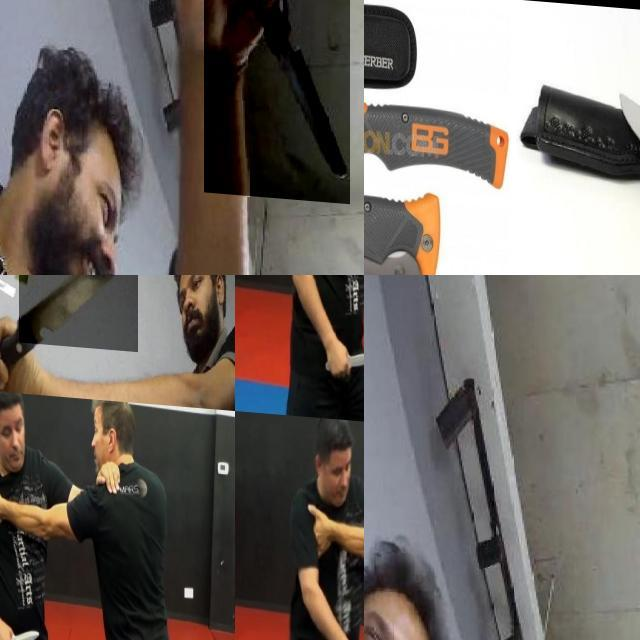-: (203, 0, 350, 197), (18, 275, 138, 348), (364, 74, 446, 180), (615, 77, 640, 202), (324, 336, 364, 372), (0, 620, 40, 640)
